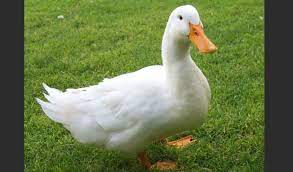Vịt/Duck: (126, 1, 235, 162)
